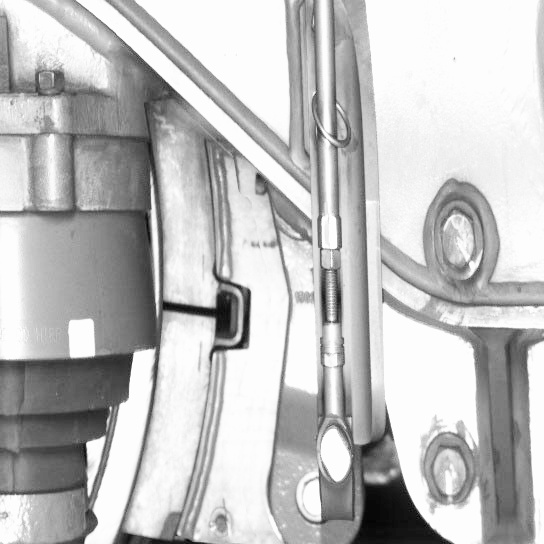ClosedKnifeSwitch: (104, 136, 231, 541)
